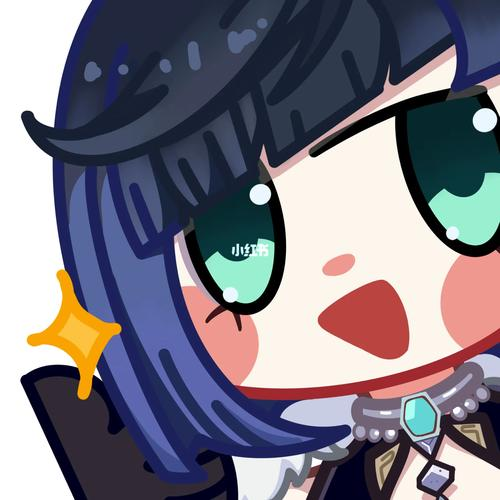夜兰: (44, 5, 500, 498)
